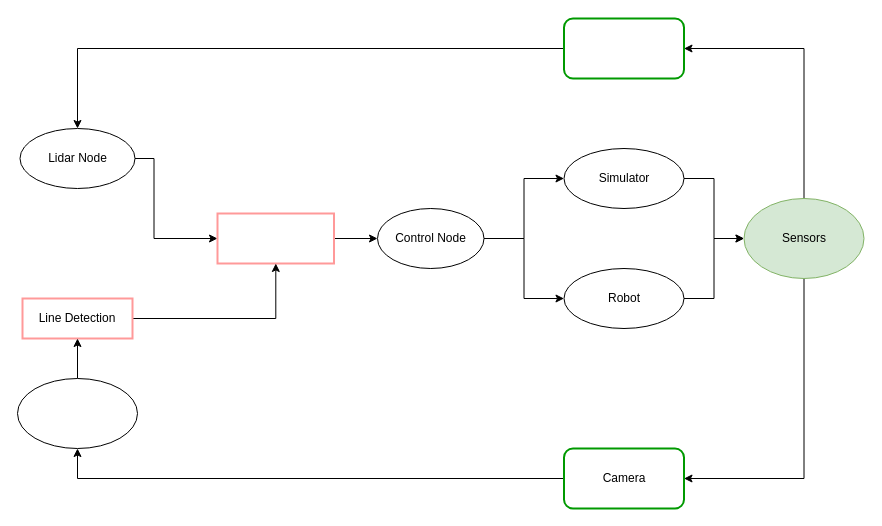
Image size: 882x526. Some labels were removed from this diagram. Here are the shapes that lost their labels. From the top down, the centre of each, then its label:
pixel 623 48: Lidar
pixel 275 238: Planning Node
pixel 77 413: Camera Node
